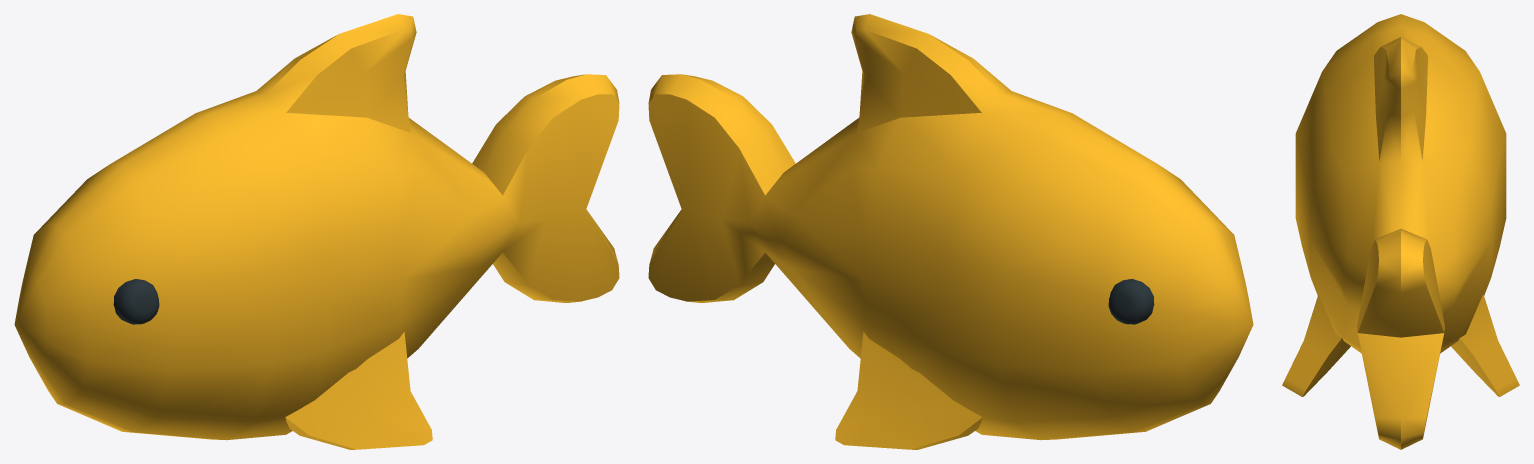
File: fish_medium.gltf.glb
3 renders of one model, left to right at view 1: azimuth 30°, elevation 25°; view 2: azimuth 150°, elevation 25°; view 3: azimuth 270°, elevation 25°, orthographic. The views are drawn at different scales.
Parts seen in each view (by area): view 1: fish_medium; view 2: fish_medium; view 3: fish_medium.
Boxes of the visible parts, box(x1,y1,x2,y2) form: fish_medium: box(14, 14, 619, 449); fish_medium: box(648, 14, 1253, 449); fish_medium: box(1282, 14, 1519, 449).
Size of the model in its own units: 0.7217 by 0.4468 by 0.2705.
